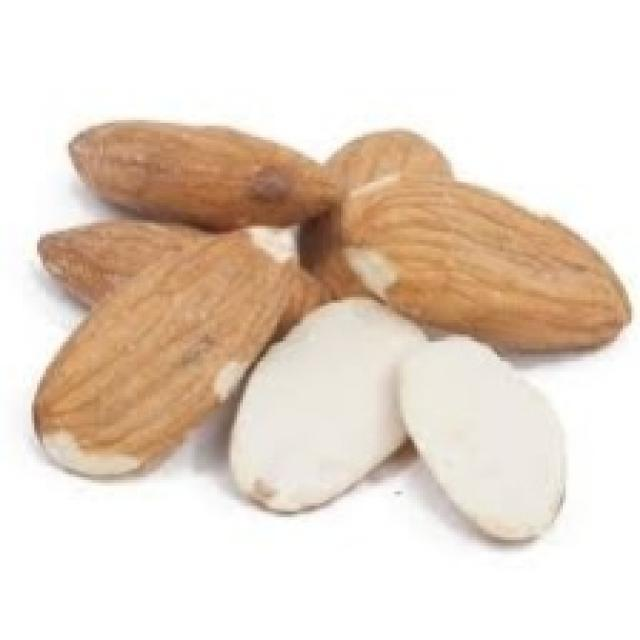almond: (29, 222, 304, 478), (343, 175, 635, 353), (73, 118, 345, 232)
